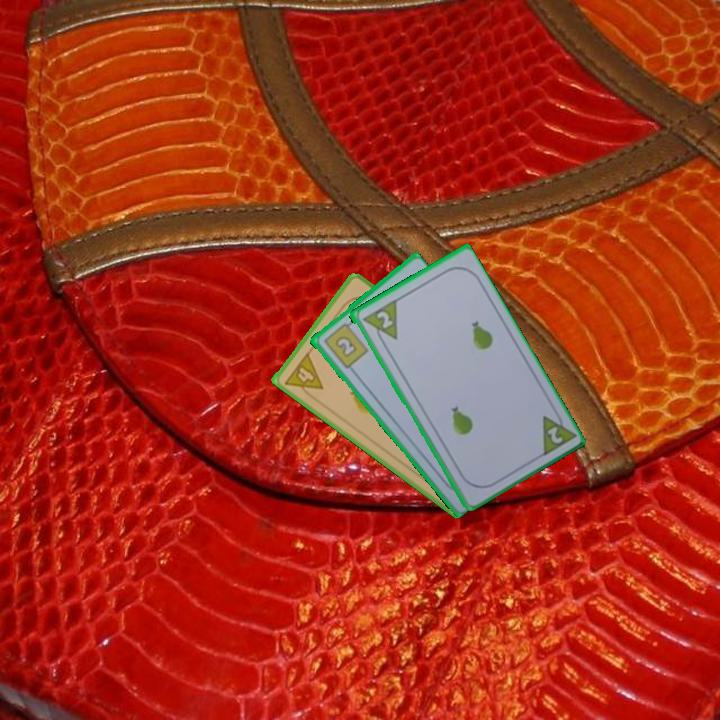2b: (319, 317, 371, 371)
2p: (372, 307, 395, 332), (543, 423, 565, 447)
4p: (281, 349, 326, 402)
